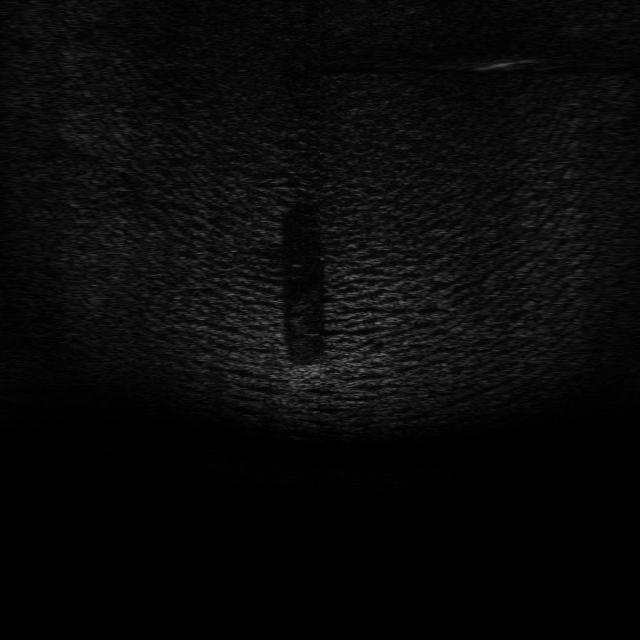cube: (286, 360, 330, 391)
